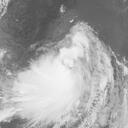cyclone: (13, 22, 115, 124)
